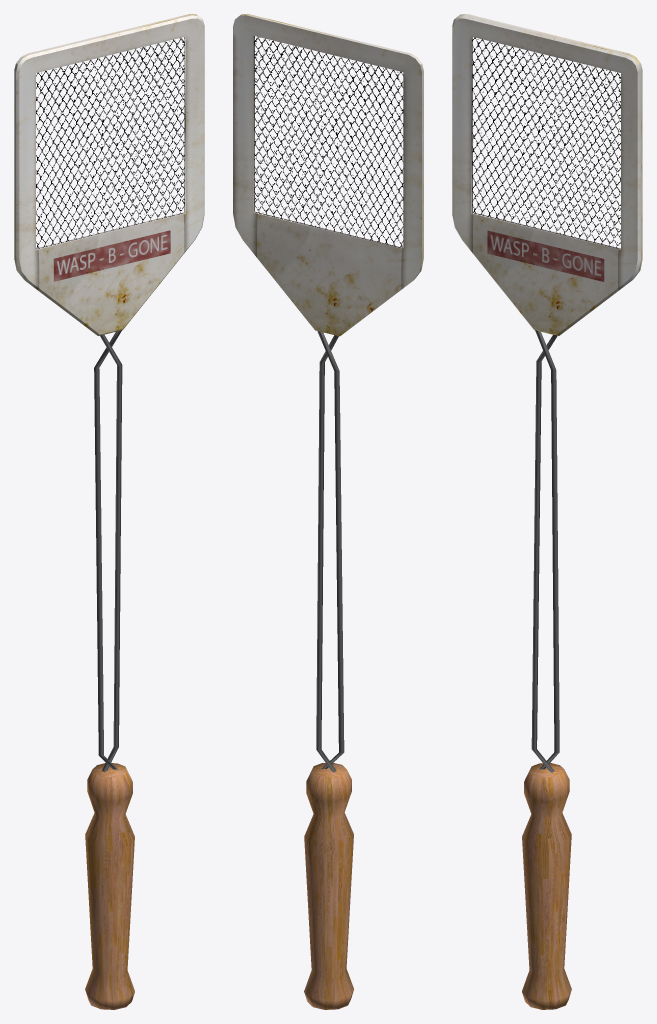
Rendered from waspSwatter.fbx.
The picture shows the model from 3 angles, left to right: view 1: azimuth 30°, elevation 25°; view 2: azimuth 150°, elevation 25°; view 3: azimuth 330°, elevation 25°; orthographic projection.
Parts seen in each view (by area): view 1: waspSwatter; view 2: waspSwatter; view 3: waspSwatter.
Part boxes in pixels (x1=…): waspSwatter: x1=14, y1=14, x2=204, y2=1009; waspSwatter: x1=233, y1=14, x2=423, y2=1009; waspSwatter: x1=452, y1=14, x2=642, y2=1009.
Size of the model in its own units: 1.07 by 5.21 by 0.2342.
